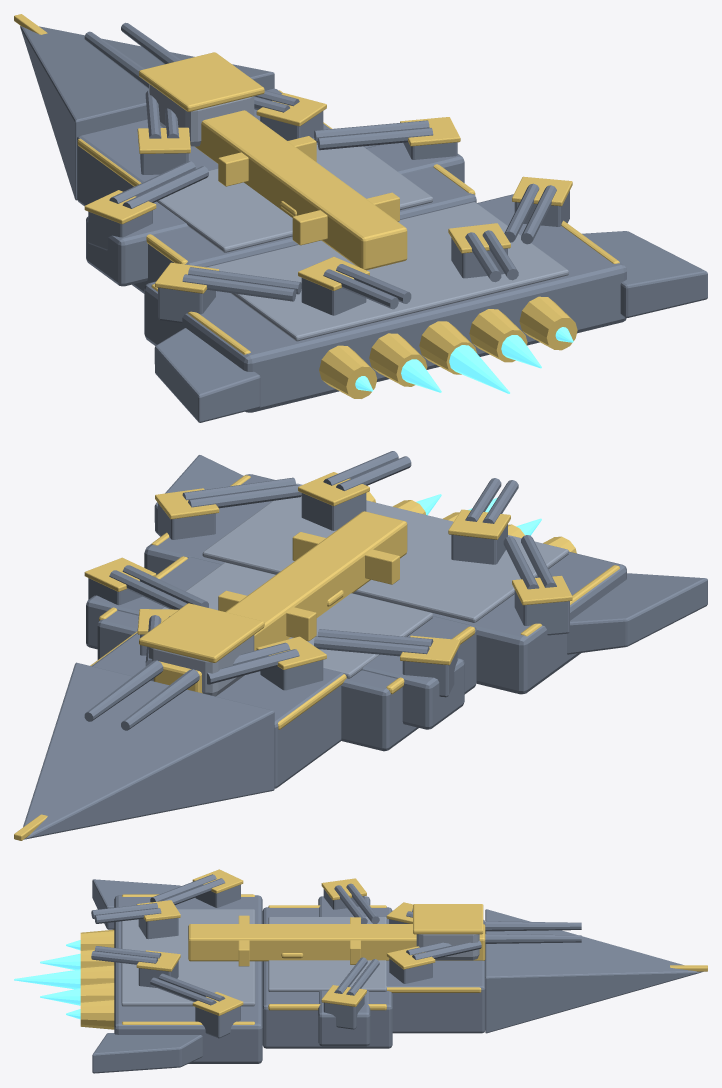
Rendered from Warship.glb.
The picture shows the model from 3 angles, top to bottom: view 1: azimuth 30°, elevation 25°; view 2: azimuth 150°, elevation 25°; view 3: azimuth 270°, elevation 25°; orthographic projection. The views are drawn at different scales.
Visible parts, largest first — view 1: Tier_Aft, Deck_Aft, Spine, Prow, Deck_Mid, Fin-1, Fin+1, Tier_Mid, Tier_Fwd, BridgeFrame, Sponson_L, Nozzle+22 (+41 smaller); view 2: Prow, Deck_Aft, Tier_Aft, Spine, Tier_Mid, Tier_Fwd, Fin-1, Deck_Mid, BridgeFrame, Sponson_L, Bridge, Fin+1 (+33 smaller); view 3: Prow, Spine, Tier_Aft, Deck_Aft, Tier_Fwd, Tier_Mid, Deck_Mid, Fin+1, BridgeFrame, Sponson, Fin-1, Nozzle+22 (+41 smaller).
Part boxes in pixels (left/top/right/bottom): Tier_Aft: left=144, top=194, right=626, bottom=412; Deck_Aft: left=207, top=202, right=568, bottom=341; Spine: left=195, top=110, right=407, bottom=270; Prow: left=20, top=26, right=274, bottom=200; Deck_Mid: left=157, top=144, right=432, bottom=252; Fin-1: left=154, top=328, right=260, bottom=422; Fin+1: left=582, top=231, right=707, bottom=317; Tier_Mid: left=132, top=145, right=476, bottom=293; Tier_Fwd: left=77, top=88, right=330, bottom=205; BridgeFrame: left=139, top=52, right=264, bottom=111; Sponson_L: left=86, top=201, right=188, bottom=286; Nozzle+22: left=519, top=296, right=577, bottom=350; Prow: left=23, top=662, right=274, bottom=839; Deck_Aft: left=202, top=483, right=568, bottom=622; Tier_Aft: left=144, top=474, right=626, bottom=694; Spine: left=154, top=511, right=407, bottom=693; Tier_Mid: left=97, top=557, right=476, bottom=751; Tier_Fwd: left=91, top=632, right=343, bottom=788; Fin-1: left=567, top=573, right=707, bottom=654; Deck_Mid: left=161, top=562, right=432, bottom=678; BridgeFrame: left=139, top=603, right=264, bottom=662; Sponson_L: left=362, top=654, right=464, bottom=729; Bridge: left=149, top=635, right=254, bottom=696; Fin+1: left=154, top=455, right=243, bottom=536; Prow: left=485, top=909, right=703, bottom=1033; Spine: left=188, top=924, right=485, bottom=961; Tier_Aft: left=114, top=895, right=262, bottom=1063; Deck_Aft: left=121, top=909, right=255, bottom=1006; Tier_Fwd: left=386, top=919, right=485, bottom=1033; Tier_Mid: left=262, top=907, right=392, bottom=1048; Deck_Mid: left=268, top=917, right=386, bottom=991; Fin+1: left=92, top=1033, right=202, bottom=1073; BridgeFrame: left=413, top=904, right=483, bottom=934; Sponson: left=318, top=990, right=370, bottom=1046; Fin-1: left=92, top=879, right=180, bottom=929; Nozzle+22: left=80, top=998, right=114, bottom=1029.
Bounding box in the file's own units: 11.18 × 2.47 × 18.7.
